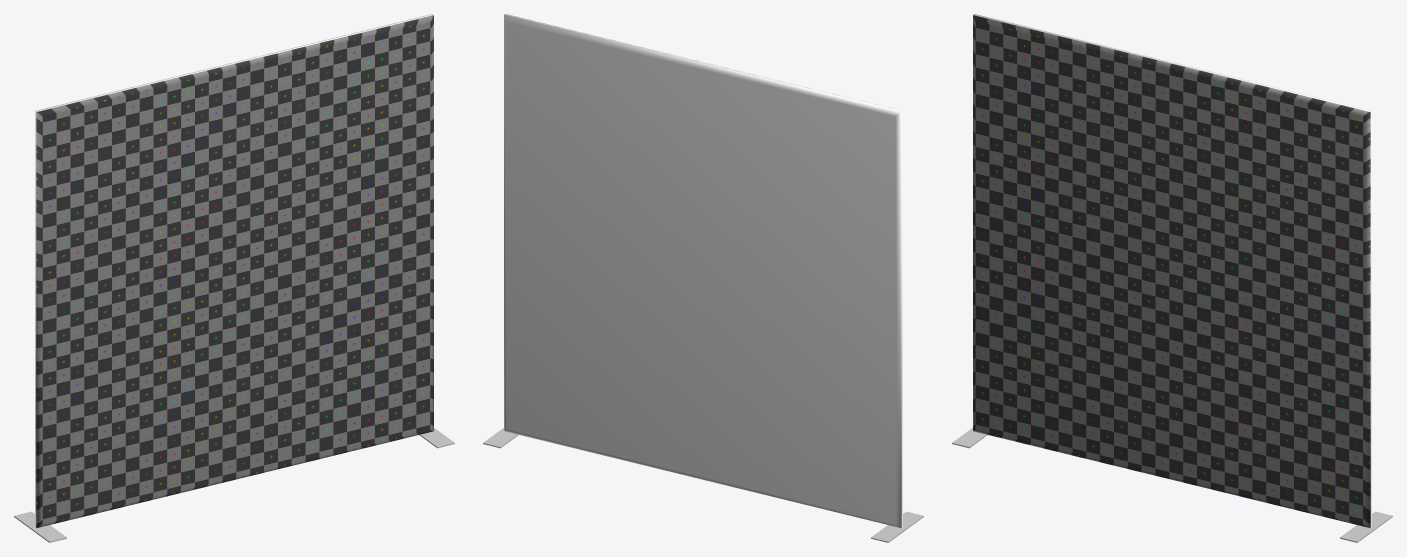
3 renders of one model, left to right at view 1: azimuth 30°, elevation 25°; view 2: azimuth 150°, elevation 25°; view 3: azimuth 330°, elevation 25°, orthographic.
Visible parts, largest first — view 1: 91x91 Frame, Foot; view 2: 91x91 Frame, Foot; view 3: 91x91 Frame, Foot.001.
Boxes of the visible parts, box(x1,y1,x2,y2) form: 91x91 Frame: box(35, 14, 433, 527); Foot: box(14, 511, 66, 542); 91x91 Frame: box(504, 14, 902, 527); Foot: box(871, 511, 923, 542); 91x91 Frame: box(973, 14, 1371, 527); Foot.001: box(1340, 511, 1392, 542).
Bounding box in the file's own units: 2.34 × 2.31 × 0.3556.
Materials: 3 (1 with a texture image).
